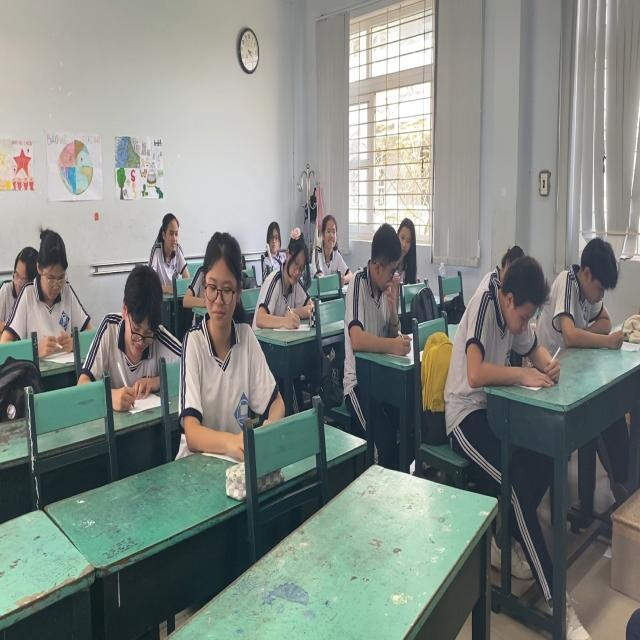not_cheating: (176, 234, 264, 455), (469, 255, 547, 393), (10, 209, 88, 345), (107, 272, 191, 379), (553, 234, 622, 355), (354, 230, 410, 348), (272, 234, 319, 327), (152, 207, 185, 286), (311, 206, 346, 272), (401, 213, 422, 265), (268, 219, 286, 261)
